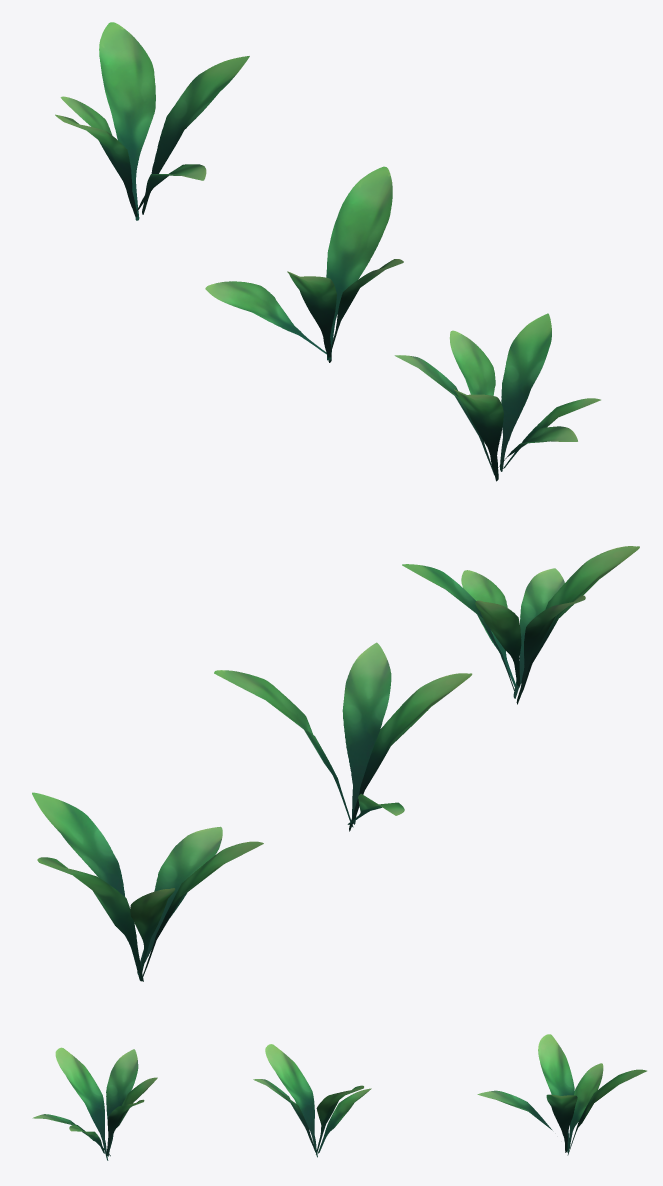
File: plants.fbx
The picture shows the model from 3 angles, top to bottom: view 1: azimuth 30°, elevation 25°; view 2: azimuth 150°, elevation 25°; view 3: azimuth 270°, elevation 25°; orthographic projection. The views are drawn at different scales.
Parts seen in each view (by area): view 1: Var_1_PlantLeaves, Var_3_PlantLeaves, Var_2_PlantLeaves; view 2: Var_1_PlantLeaves, Var_3_PlantLeaves, Var_2_PlantLeaves; view 3: Var_1_PlantLeaves, Var_2_PlantLeaves, Var_3_PlantLeaves.
Boxes of the visible parts, left/top/right/bottom form: Var_1_PlantLeaves: left=55, top=22, right=249, bottom=220; Var_3_PlantLeaves: left=205, top=166, right=403, bottom=362; Var_2_PlantLeaves: left=394, top=313, right=600, bottom=481; Var_1_PlantLeaves: left=32, top=792, right=263, bottom=981; Var_3_PlantLeaves: left=214, top=642, right=472, bottom=831; Var_2_PlantLeaves: left=402, top=546, right=639, bottom=704; Var_1_PlantLeaves: left=477, top=1034, right=646, bottom=1155; Var_2_PlantLeaves: left=32, top=1047, right=157, bottom=1160; Var_3_PlantLeaves: left=253, top=1044, right=371, bottom=1157.
Bounding box in the file's own units: 83.83 × 50.89 × 267.
